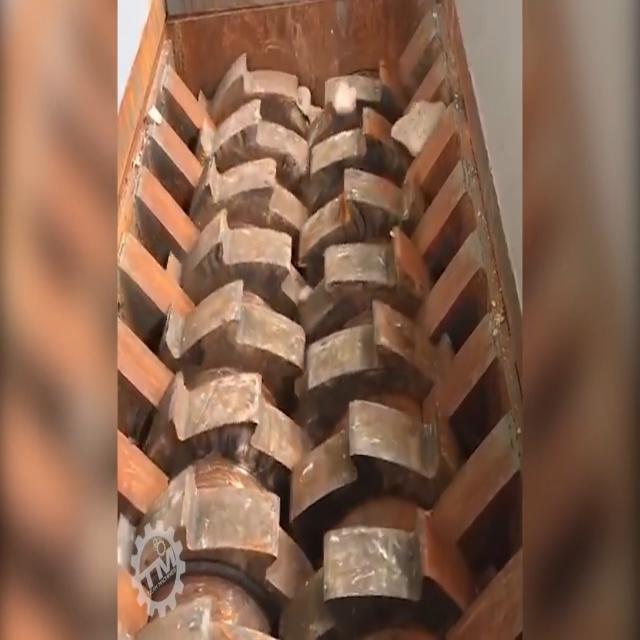Broyeur: (119, 0, 524, 640)
